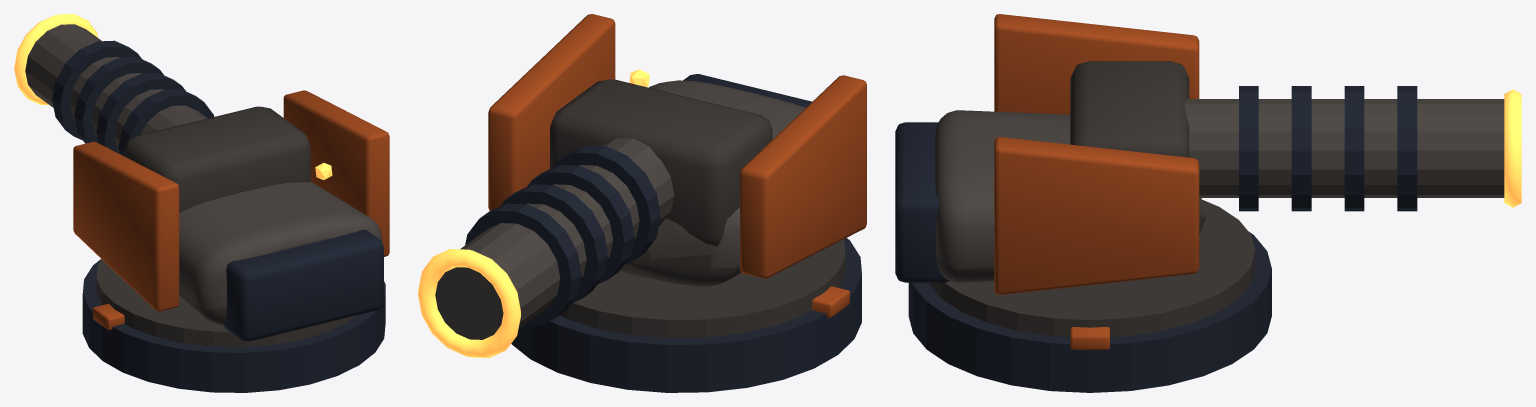
File: turret_pulse_cannons.glb
3 views of the same model, side by side, from view 1: azimuth 30°, elevation 25°; view 2: azimuth 150°, elevation 25°; view 3: azimuth 270°, elevation 25° (orthographic). The views are drawn at different scales.
Parts seen in each view (by area): view 1: Yaw_mesh, Pitch_mesh, Base_mesh; view 2: Pitch_mesh, Yaw_mesh, Base_mesh; view 3: Yaw_mesh, Pitch_mesh, Base_mesh.
Boxes of the visible parts, bbox=[...] form: Yaw_mesh: bbox=[73, 90, 389, 341]; Pitch_mesh: bbox=[14, 14, 310, 212]; Base_mesh: bbox=[82, 259, 385, 392]; Pitch_mesh: bbox=[418, 79, 772, 357]; Yaw_mesh: bbox=[488, 14, 866, 286]; Base_mesh: bbox=[511, 238, 861, 392]; Yaw_mesh: bbox=[895, 14, 1205, 294]; Pitch_mesh: bbox=[1070, 61, 1521, 211]; Base_mesh: bbox=[908, 199, 1271, 392].
Bounding box in the file's own units: 1.12 × 0.7881 × 1.9.
